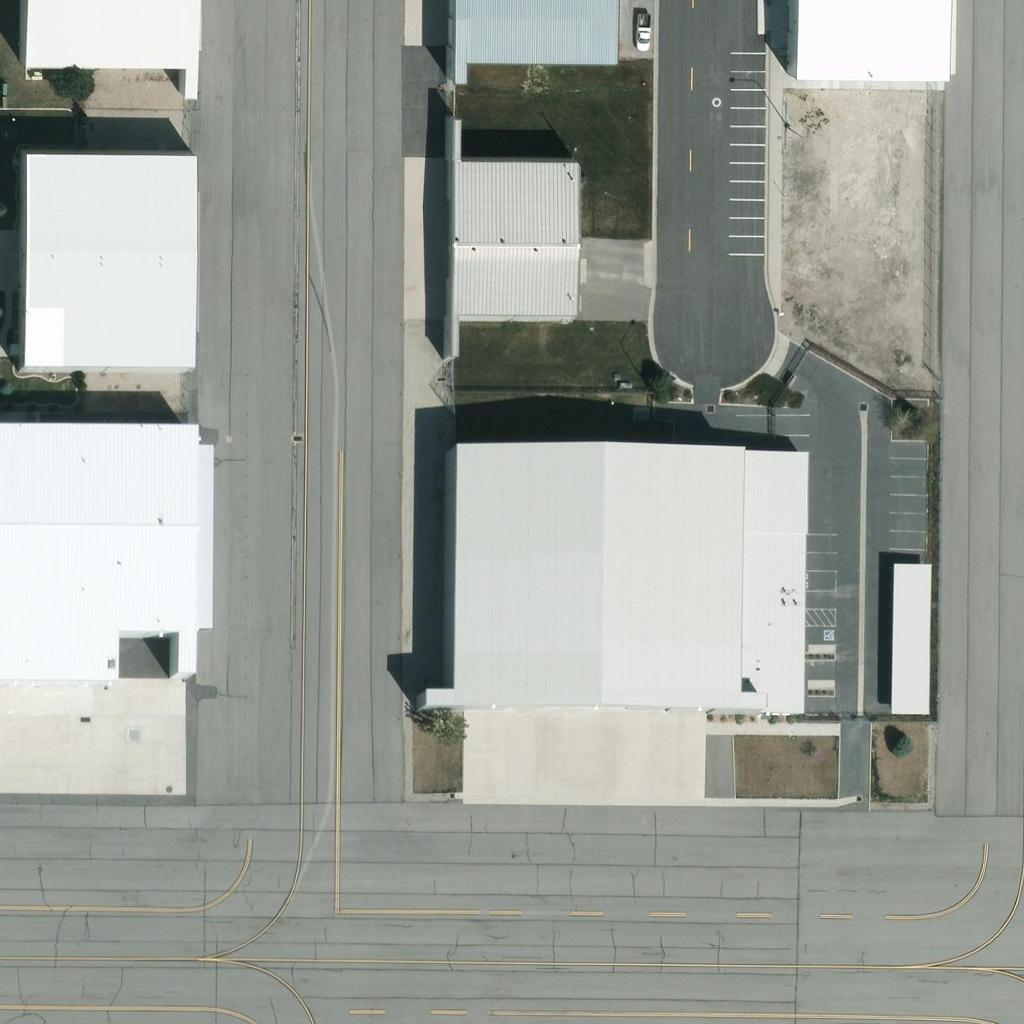car: (626, 15, 660, 49)
